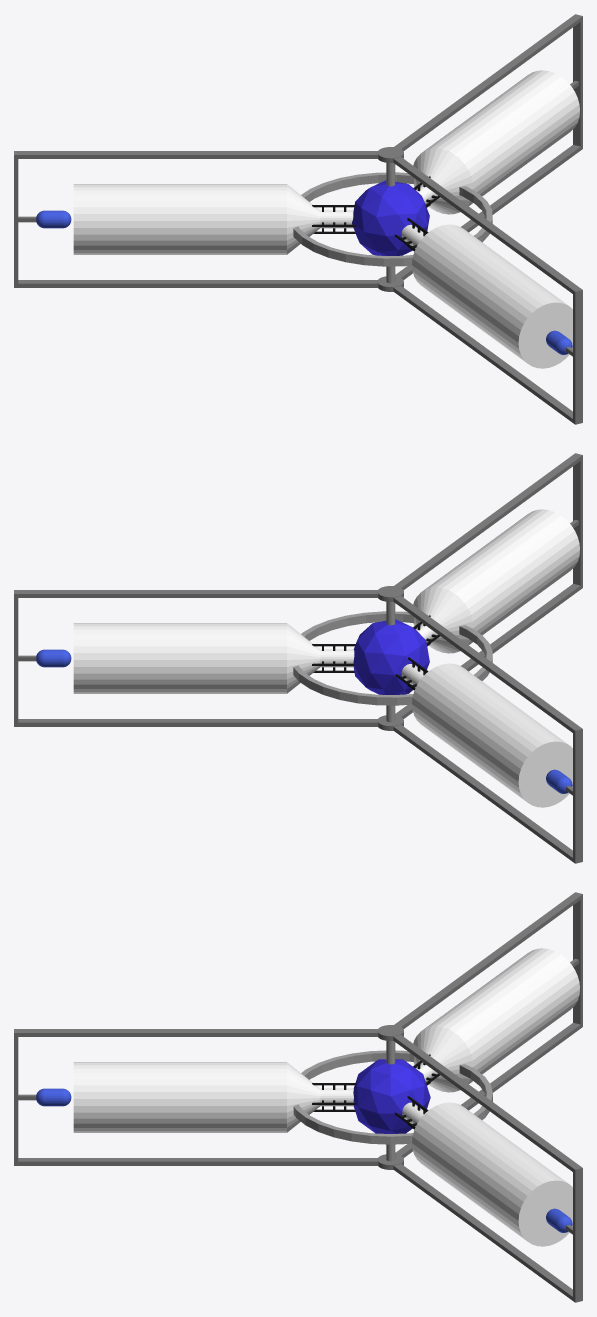
Rendered from spaceship_colored_joint.fbx.
The picture shows the model from 3 angles, top to bottom: view 1: azimuth 30°, elevation 25°; view 2: azimuth 150°, elevation 25°; view 3: azimuth 270°, elevation 25°; orthographic projection.
Visible parts, largest first — view 1: Cube.002, Cube.004, Icosphere, Cylinder.003, Cube.001; view 2: Cube.002, Cube.004, Icosphere, Cylinder.003, Cube.001; view 3: Cube.002, Cube.004, Icosphere, Cylinder.003, Cube.001.
Part boxes in pixels (x1,y1,x2,y2): Cube.002: (73, 70, 579, 368); Cube.004: (14, 14, 582, 424); Icosphere: (352, 180, 429, 255); Cylinder.003: (293, 172, 492, 266); Cube.001: (377, 147, 403, 291); Cube.002: (73, 509, 579, 807); Cube.004: (14, 453, 582, 863); Icosphere: (353, 619, 429, 694); Cylinder.003: (293, 611, 492, 705); Cube.001: (377, 586, 403, 730); Cube.002: (73, 948, 579, 1246); Cube.004: (14, 892, 582, 1302); Icosphere: (353, 1059, 430, 1133); Cylinder.003: (293, 1050, 492, 1144); Cube.001: (377, 1025, 403, 1169).
Size of the model in its own units: 14782 by 3320 by 12802.
